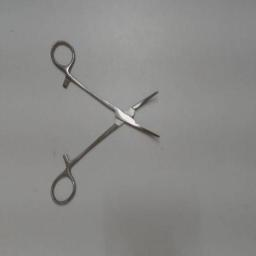Crile Artery Forceps: (48, 37, 168, 209)
